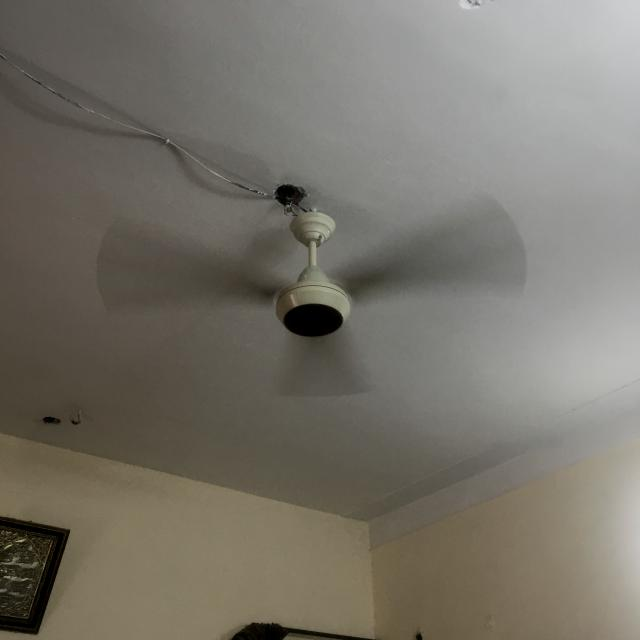on: (94, 187, 540, 407)
